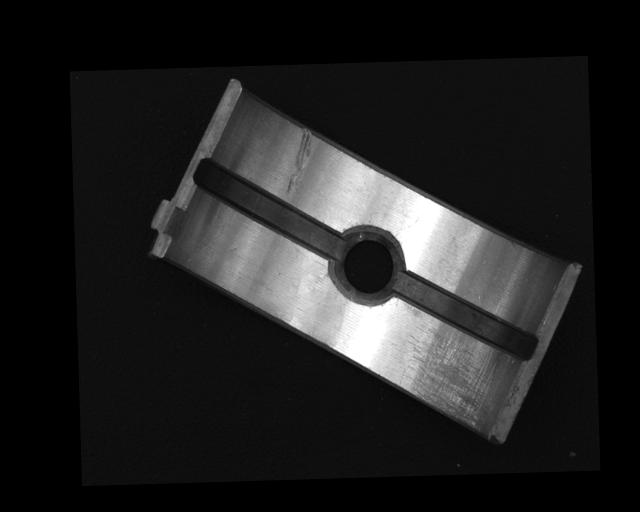gap: (194, 154, 341, 264), (392, 268, 540, 364)
hole: (333, 228, 403, 307)
nick: (282, 126, 316, 194)
scratch: (399, 322, 500, 427)
